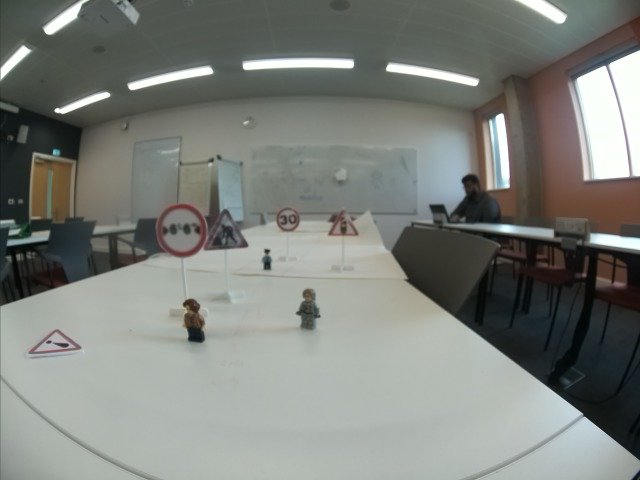30mph: (277, 207, 301, 232)
6ft6: (155, 204, 206, 257)
Lego Man: (180, 298, 208, 342), (295, 288, 322, 329), (260, 248, 275, 269)
Roadworks: (202, 207, 250, 249)
Traffic lights: (328, 210, 361, 235)
Warning: (25, 328, 87, 359)
